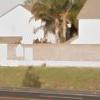Palm tree: (34, 1, 80, 49)
